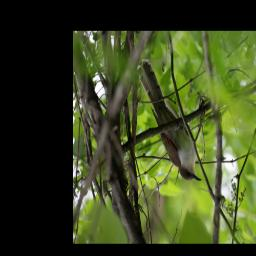Cuckoo: (137, 58, 203, 184)
